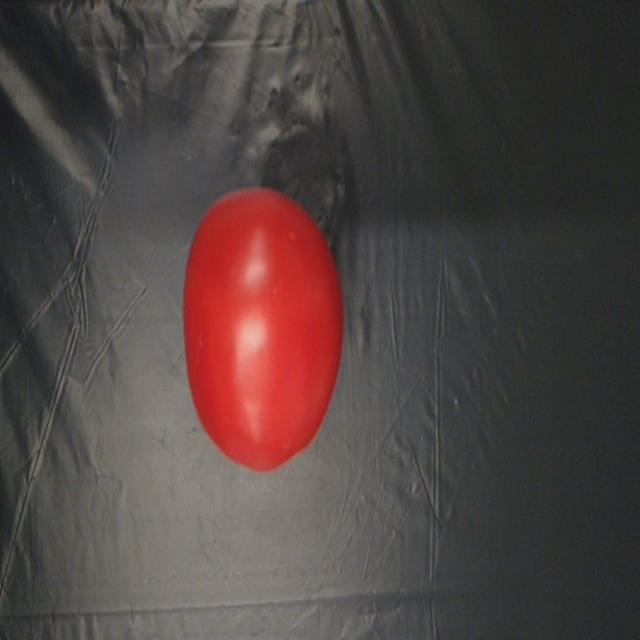kirmizi: (183, 183, 346, 476)
